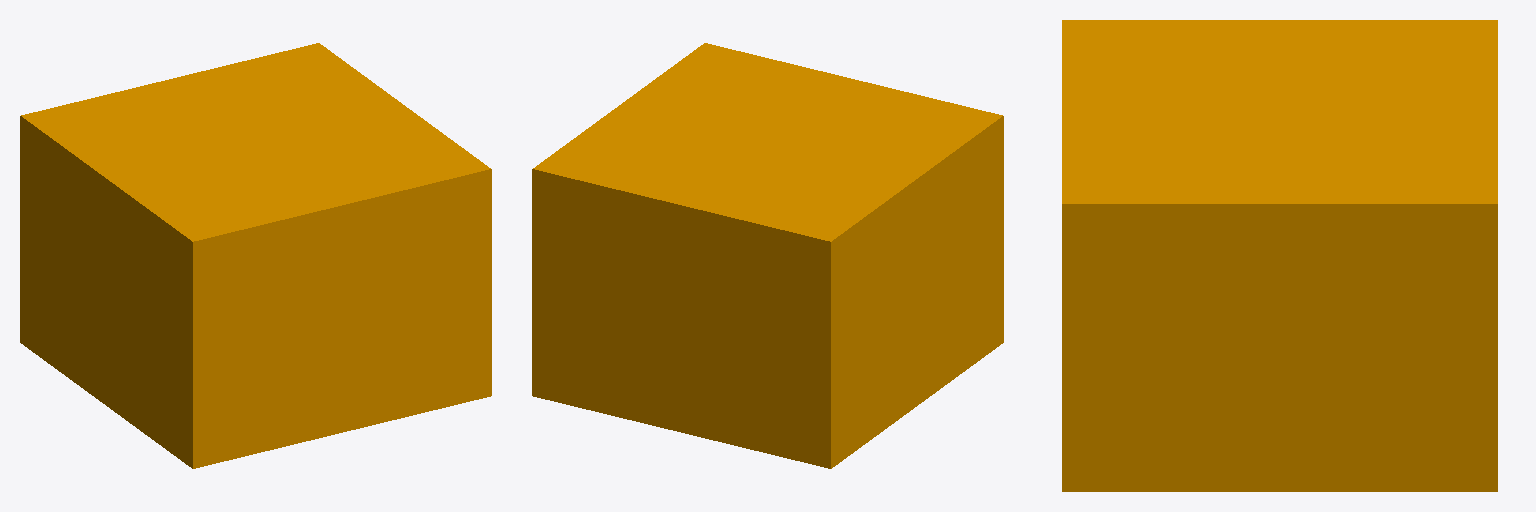
The robot description file, URDF, robot "testing1_cuboid_small":
<?xml version="1.0" ?>
<robot name="testing1_cuboid_small">

    <link name="testing1_cuboid_small">
        <visual>
            <origin rpy="1.5707963267948966 0 0" xyz="0 0 0"/>
            <geometry>
                <mesh filename="obj_files/testing1_cuboid_small.obj" scale="1 1 1"/>
            </geometry>
        </visual>
        <collision>
            <geometry>
                <mesh filename="obj_files/testing1_cuboid_small_collision.obj" scale="1 1 1"/>
            </geometry>
        </collision>
    </link>

</robot>

--- What the picture shows (computed from the rendered views, not written in the file) ---
3 views of the same robot in one strip: view 1: azimuth 30°, elevation 25°; view 2: azimuth 150°, elevation 25°; view 3: azimuth 270°, elevation 25° (orthographic).
Robot: testing1_cuboid_small — 1 links, 0 joints (none); root link testing1_cuboid_small; default pose: all joints at 0.
Links seen in each view (by area): view 1: testing1_cuboid_small; view 2: testing1_cuboid_small; view 3: testing1_cuboid_small.
Boxes of the visible links, x1,y1,x2,y2 form: testing1_cuboid_small: (20,43,491,468); testing1_cuboid_small: (532,43,1003,468); testing1_cuboid_small: (1062,20,1497,491).
Size in the robot's own frame: 0.0825 by 0.0825 by 0.06 metres.
Meshes: 1 distinct files referenced, 1 mesh visuals loaded (1 OBJ).